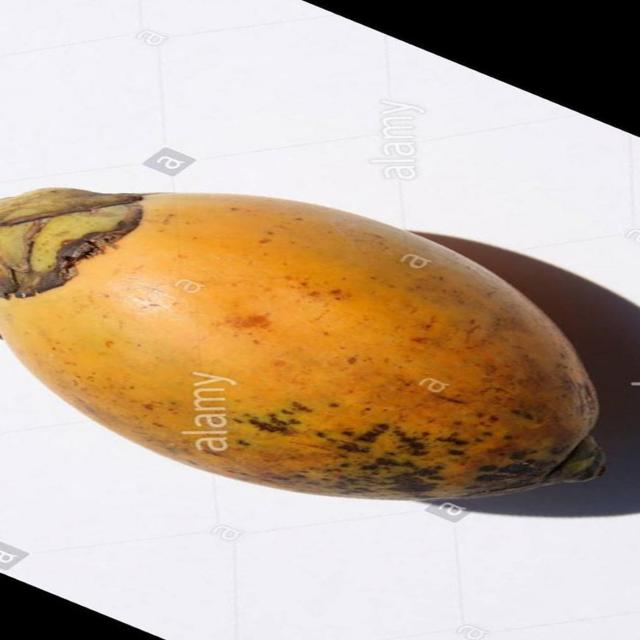good: (0, 190, 607, 506)
